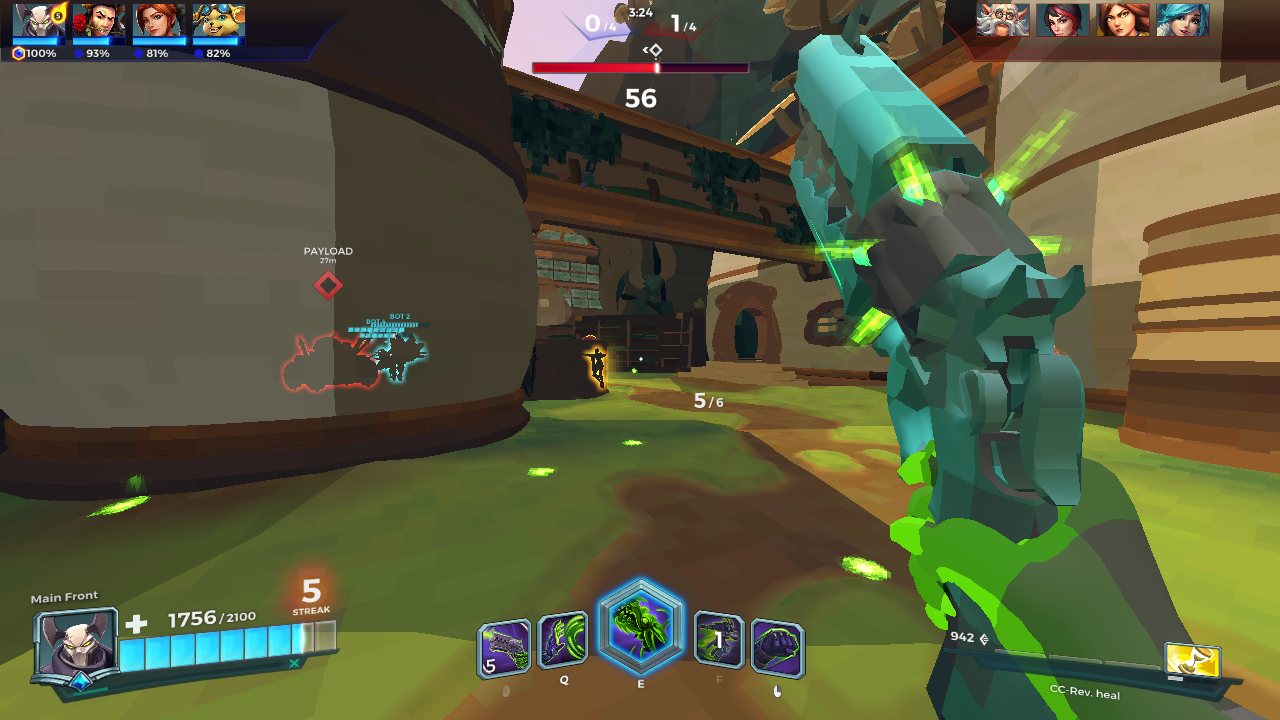model: (585, 341, 616, 399)
